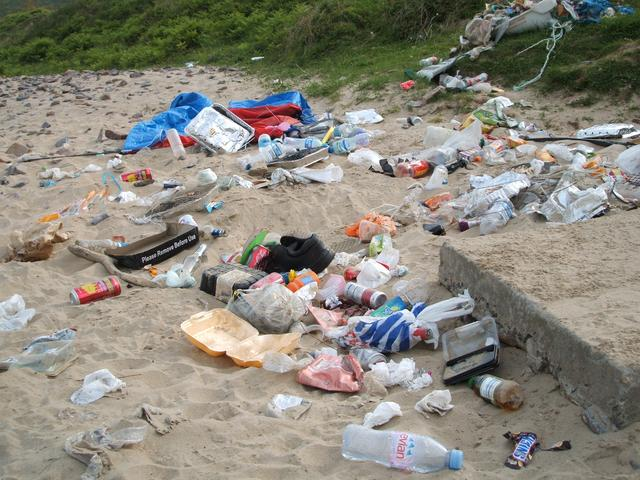garbage: (217, 251, 426, 397), (420, 126, 620, 208), (154, 98, 361, 171)
